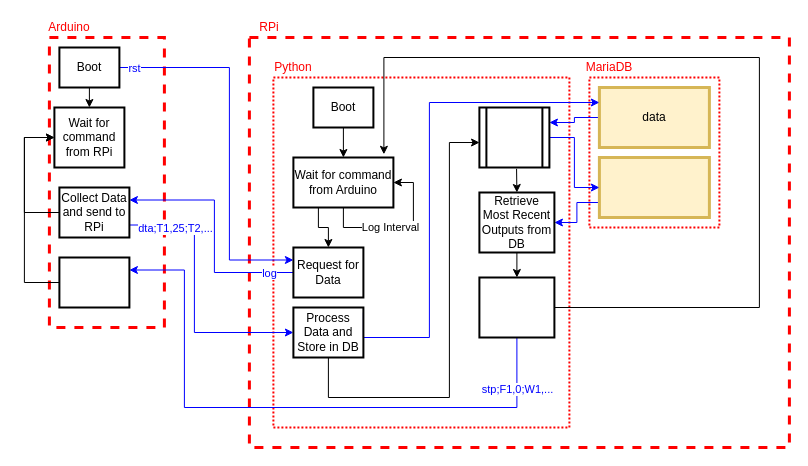
Image size: 808x466. Some labels were removed from this diagram. The shapes that lost their labels are listed below. From the top down, each one's box as (x1, y1, x2, y2) in pixels, then its label:
(478, 106, 550, 168): Calc. Outputs & Store in DB
(597, 156, 710, 218): output
(58, 256, 130, 308): Set Outputs
(478, 276, 555, 338): Send Outputs to Arduino
